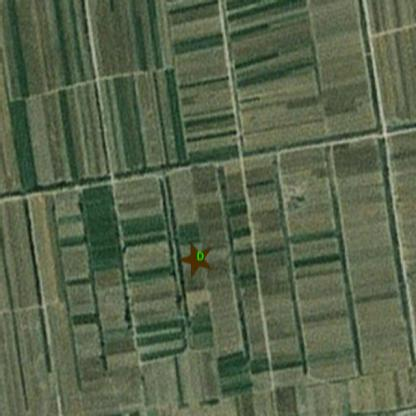D: (195, 249, 205, 264)
star: (176, 241, 216, 280)
